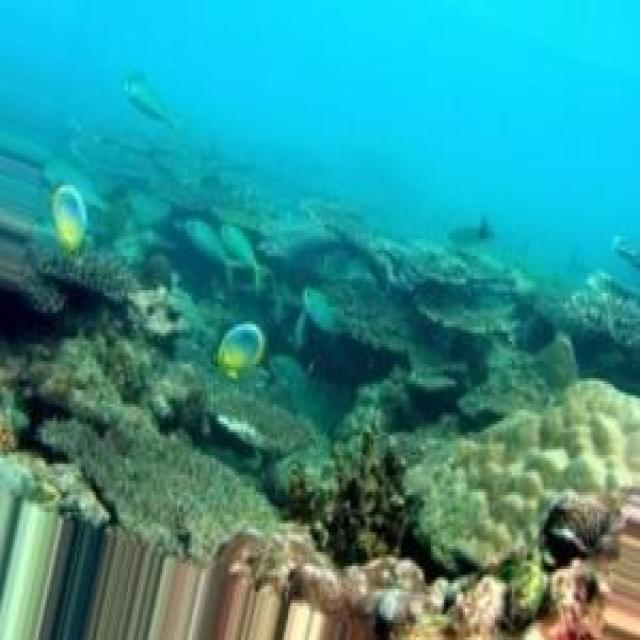bleached coral: (405, 381, 640, 617), (361, 560, 510, 640), (96, 259, 190, 367)
healthy coral: (198, 191, 518, 287)
